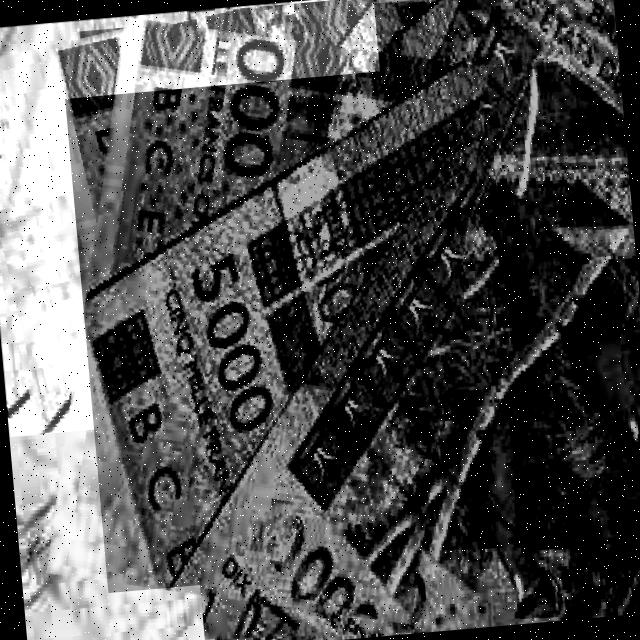junni: (83, 63, 486, 588)
niaar junni: (204, 0, 640, 635)
niaar teemeer: (0, 0, 368, 433)
